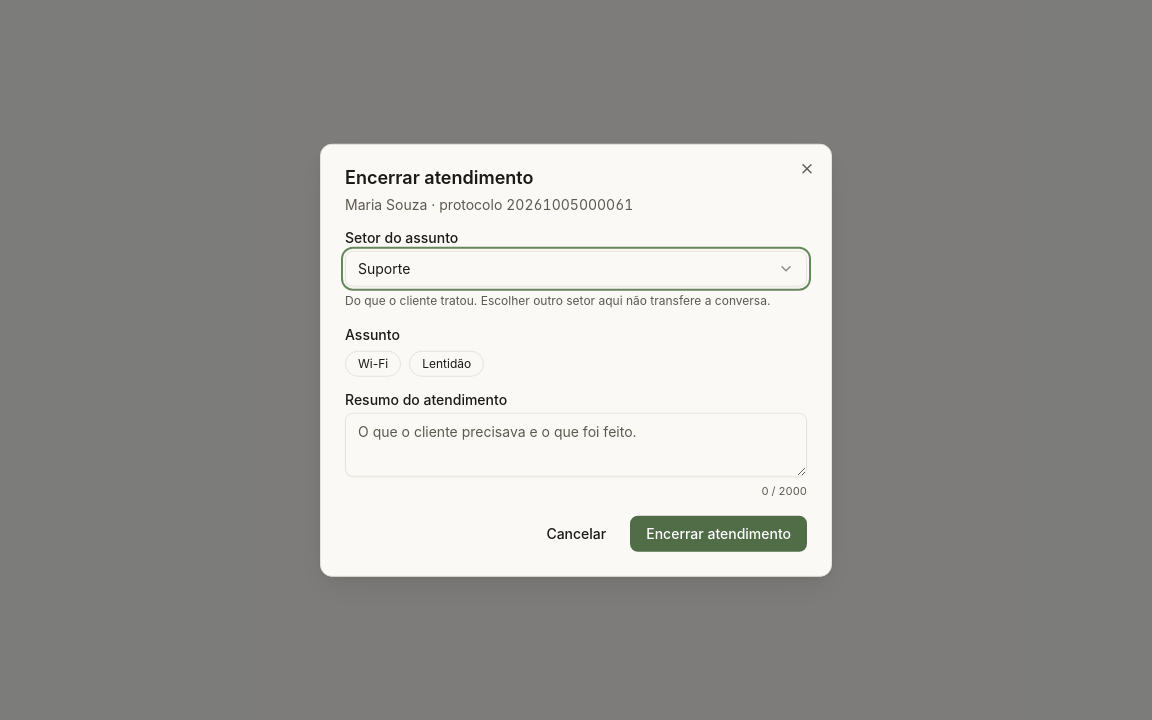
Test: a janela de encerramento › recusa do SERVIDOR aparece no campo, e a janela continua aberta
Click the radio button labelled "Wi-Fi" at [373, 364], box [345,351,401,377]
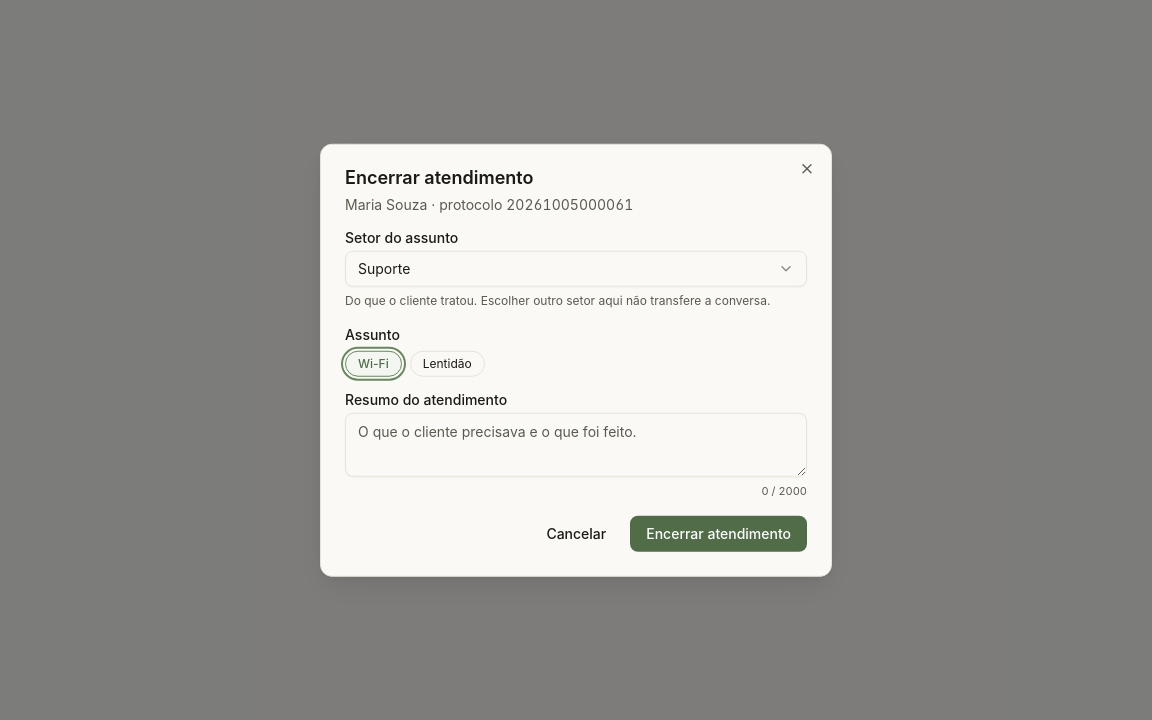
Click the button with test id "encerramento-confirmar" at [719, 533], box [630,515,807,551]
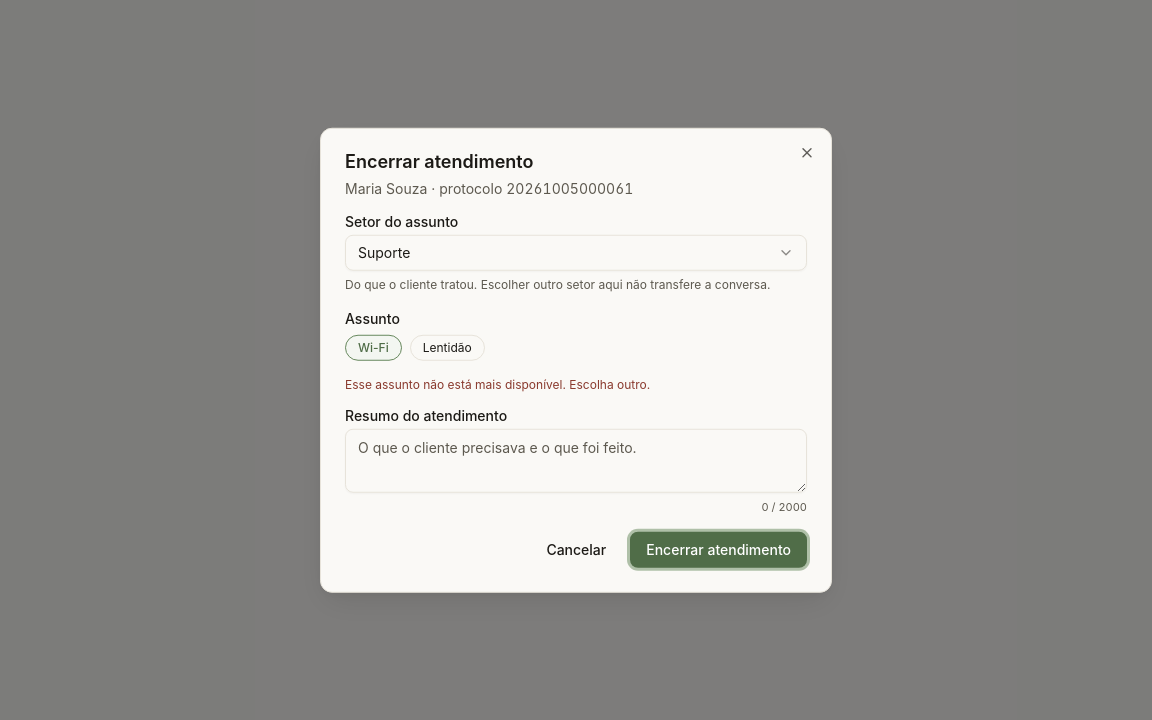
Expected: the message with test id "encerramento-erro-assunto" reads "Esse assunto não está mais disponível. Escolha outro.", [345,377,650,392]
